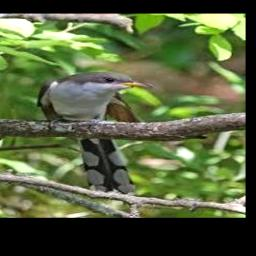Cuckoo: (39, 70, 153, 193)
